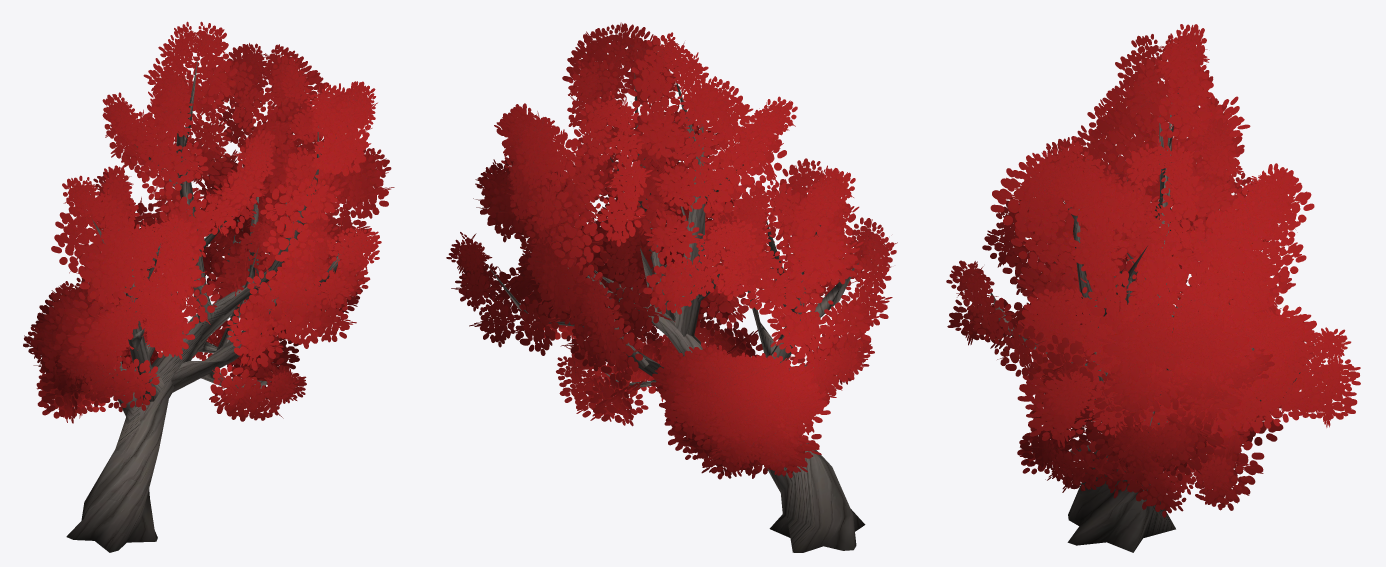
The model's file is TwistedTree_1.low.gltf.
3 renders of one model, left to right at view 1: azimuth 30°, elevation 25°; view 2: azimuth 150°, elevation 25°; view 3: azimuth 270°, elevation 25°, orthographic. The views are drawn at different scales.
Parts seen in each view (by area): view 1: TwistedTree_1; view 2: TwistedTree_1; view 3: TwistedTree_1.
Boxes of the visible parts, bbox=[...] form: TwistedTree_1: bbox=[23, 21, 394, 552]; TwistedTree_1: bbox=[446, 22, 897, 552]; TwistedTree_1: bbox=[946, 24, 1360, 552].
Size of the model in its own units: 13.52 by 16.73 by 11.55.
2 materials, 2 textured.
